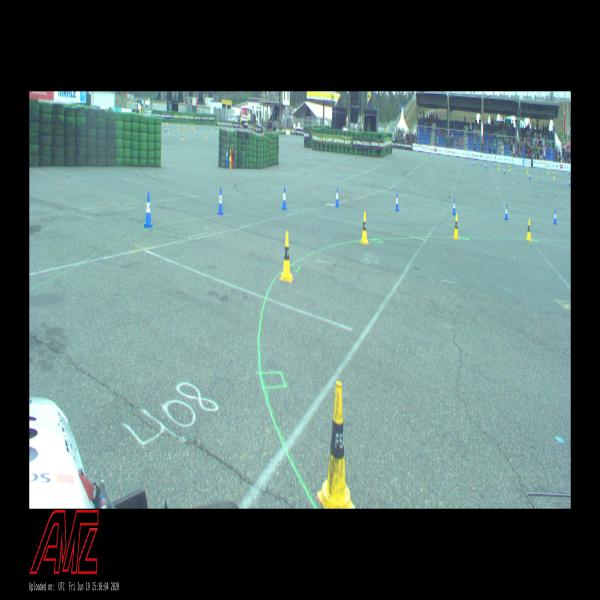blue_cone: (144, 192, 153, 228), (217, 187, 224, 215), (282, 186, 286, 210), (335, 187, 339, 207), (395, 192, 399, 211), (452, 198, 456, 215), (504, 204, 508, 221), (553, 210, 557, 225)
yellow_cone: (317, 382, 357, 509), (281, 231, 292, 281), (361, 212, 368, 244), (453, 214, 460, 240), (526, 219, 532, 241)
